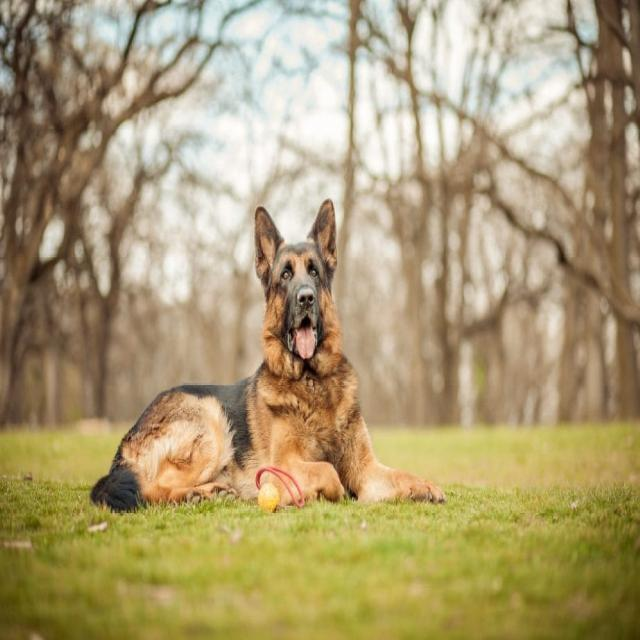GERMAN_SHEPHERD: (90, 189, 452, 546)
